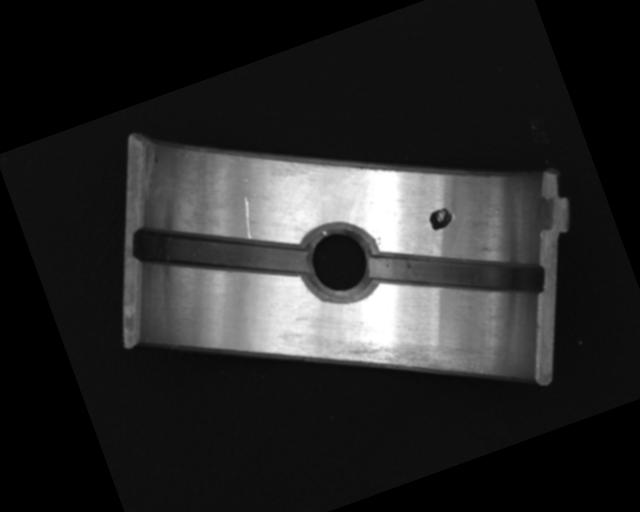blot: (425, 204, 458, 232)
gap: (130, 180, 310, 324), (365, 203, 548, 342)
hole: (292, 212, 388, 313)
nick: (234, 195, 261, 240)
scratch: (323, 304, 484, 421)
